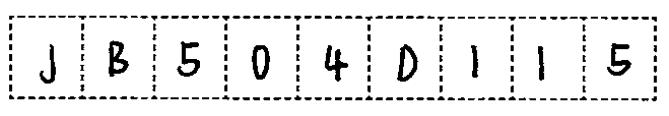0: (241, 37, 280, 88)
1: (524, 40, 556, 88), (458, 39, 490, 81)
4: (312, 38, 358, 86)
5: (172, 37, 209, 80), (602, 37, 636, 81)
B: (99, 35, 133, 78)
D: (386, 40, 426, 84)
J: (28, 38, 71, 89)
